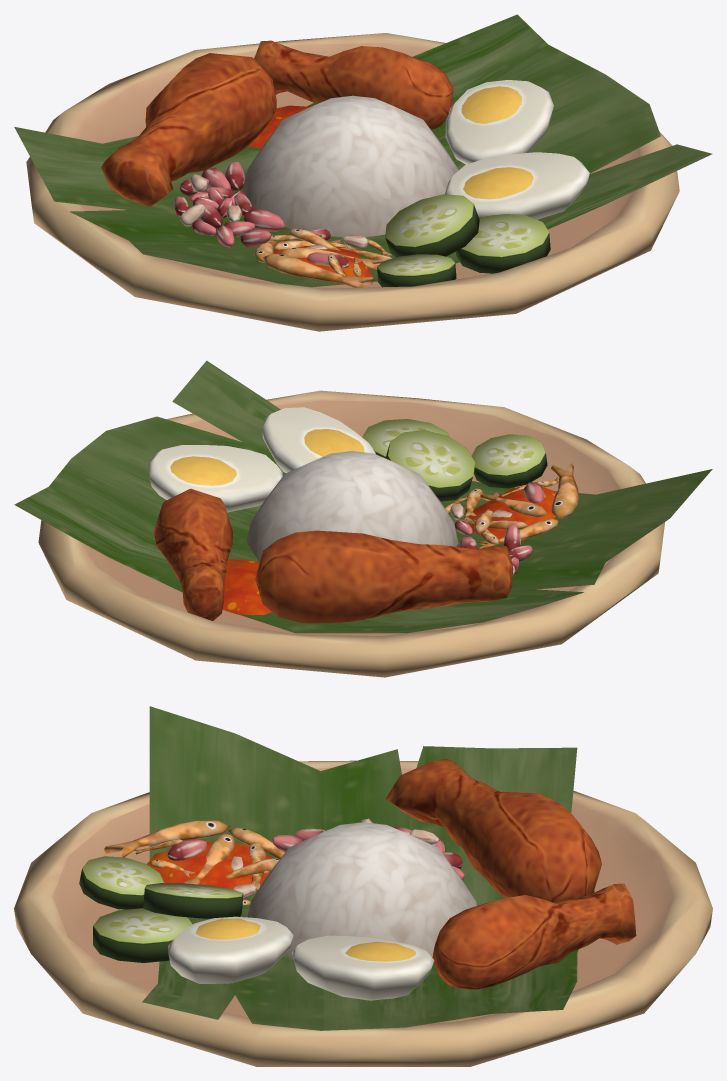
The model's file is chicken-rice.glb.
3 views of the same model, one above another, from view 1: azimuth 30°, elevation 25°; view 2: azimuth 150°, elevation 25°; view 3: azimuth 270°, elevation 25° (orthographic). The views are drawn at different scales.
Parts seen in each view (by area): view 1: SM_NasiLemak; view 2: SM_NasiLemak; view 3: SM_NasiLemak.
Boxes of the visible parts, x1,y1,x2,y2 form: SM_NasiLemak: (14, 14, 712, 331); SM_NasiLemak: (14, 360, 712, 677); SM_NasiLemak: (14, 706, 712, 1066).
Bounding box in the file's own units: 1 × 0.175 × 1.
1 material, 1 textured.
